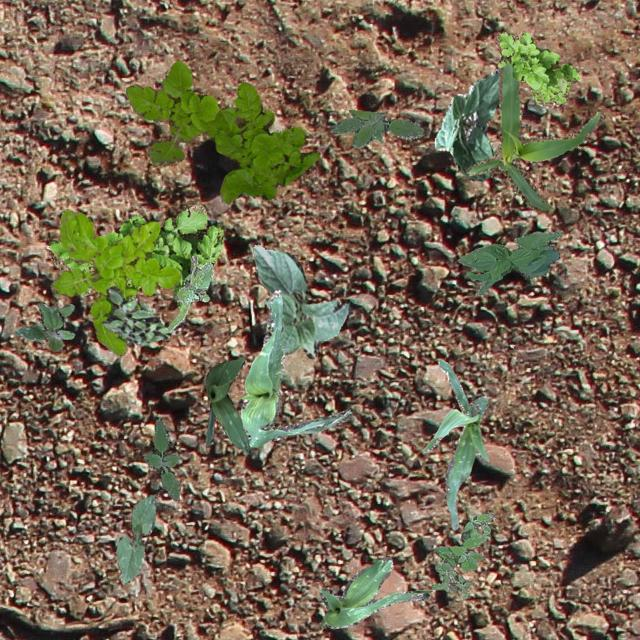crop: (464, 61, 604, 212), (240, 288, 350, 446), (422, 358, 488, 528), (252, 244, 350, 358), (318, 556, 430, 628), (434, 66, 498, 180), (456, 230, 562, 292), (204, 358, 252, 453), (114, 494, 154, 584)
weed: (124, 60, 318, 204), (50, 208, 180, 354), (48, 202, 222, 308), (496, 30, 578, 104), (431, 512, 494, 598), (100, 286, 172, 344), (330, 109, 422, 148), (166, 254, 212, 330), (12, 302, 74, 350), (142, 418, 178, 500)
